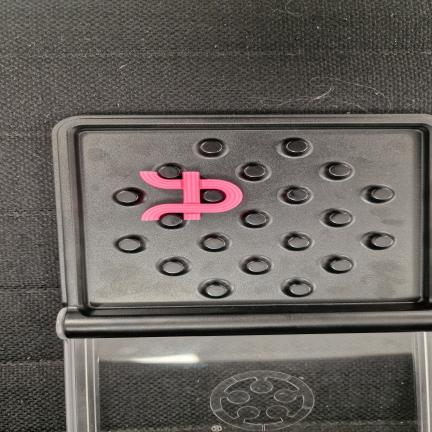G_Pink: (141, 172, 242, 220)
board: (52, 114, 432, 338)
hinge: (54, 308, 432, 337)
pin: (116, 190, 139, 204), (286, 140, 308, 154), (244, 165, 266, 179), (287, 188, 309, 202), (244, 213, 267, 226), (160, 214, 183, 227), (118, 238, 141, 251), (287, 236, 310, 249), (329, 259, 352, 272), (200, 141, 222, 154), (329, 164, 351, 177), (371, 188, 393, 201), (329, 212, 351, 225), (203, 237, 225, 250), (371, 235, 393, 248), (246, 260, 268, 273), (162, 261, 184, 274), (205, 284, 227, 297), (289, 283, 311, 296), (158, 166, 180, 178), (203, 190, 225, 202)
